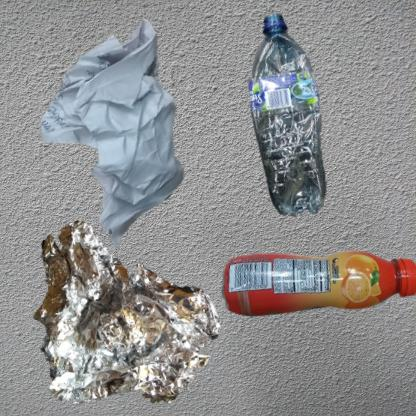aluminio: (10, 213, 243, 416)
botella: (213, 10, 391, 256), (213, 213, 416, 376)
papel: (10, 10, 278, 299)
